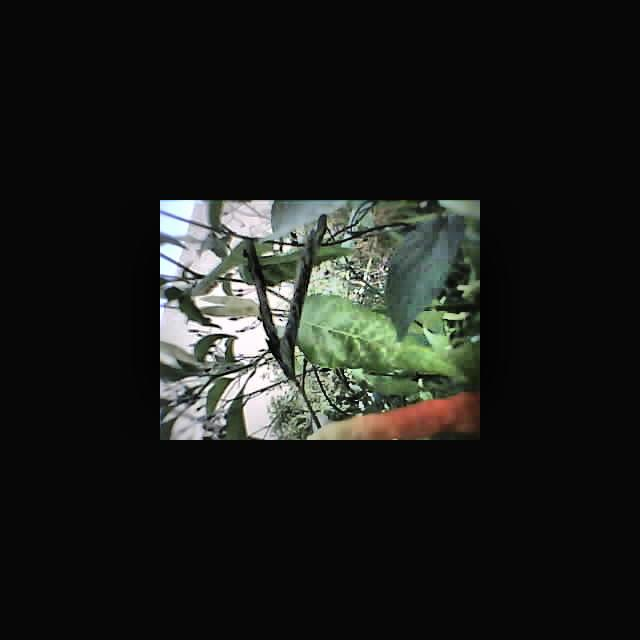Cabai: (290, 393, 480, 440)
